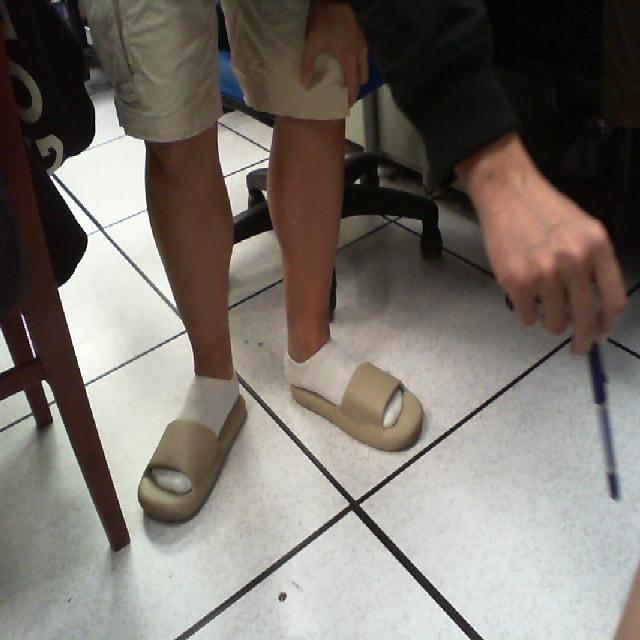Pen: (569, 301, 633, 521)
